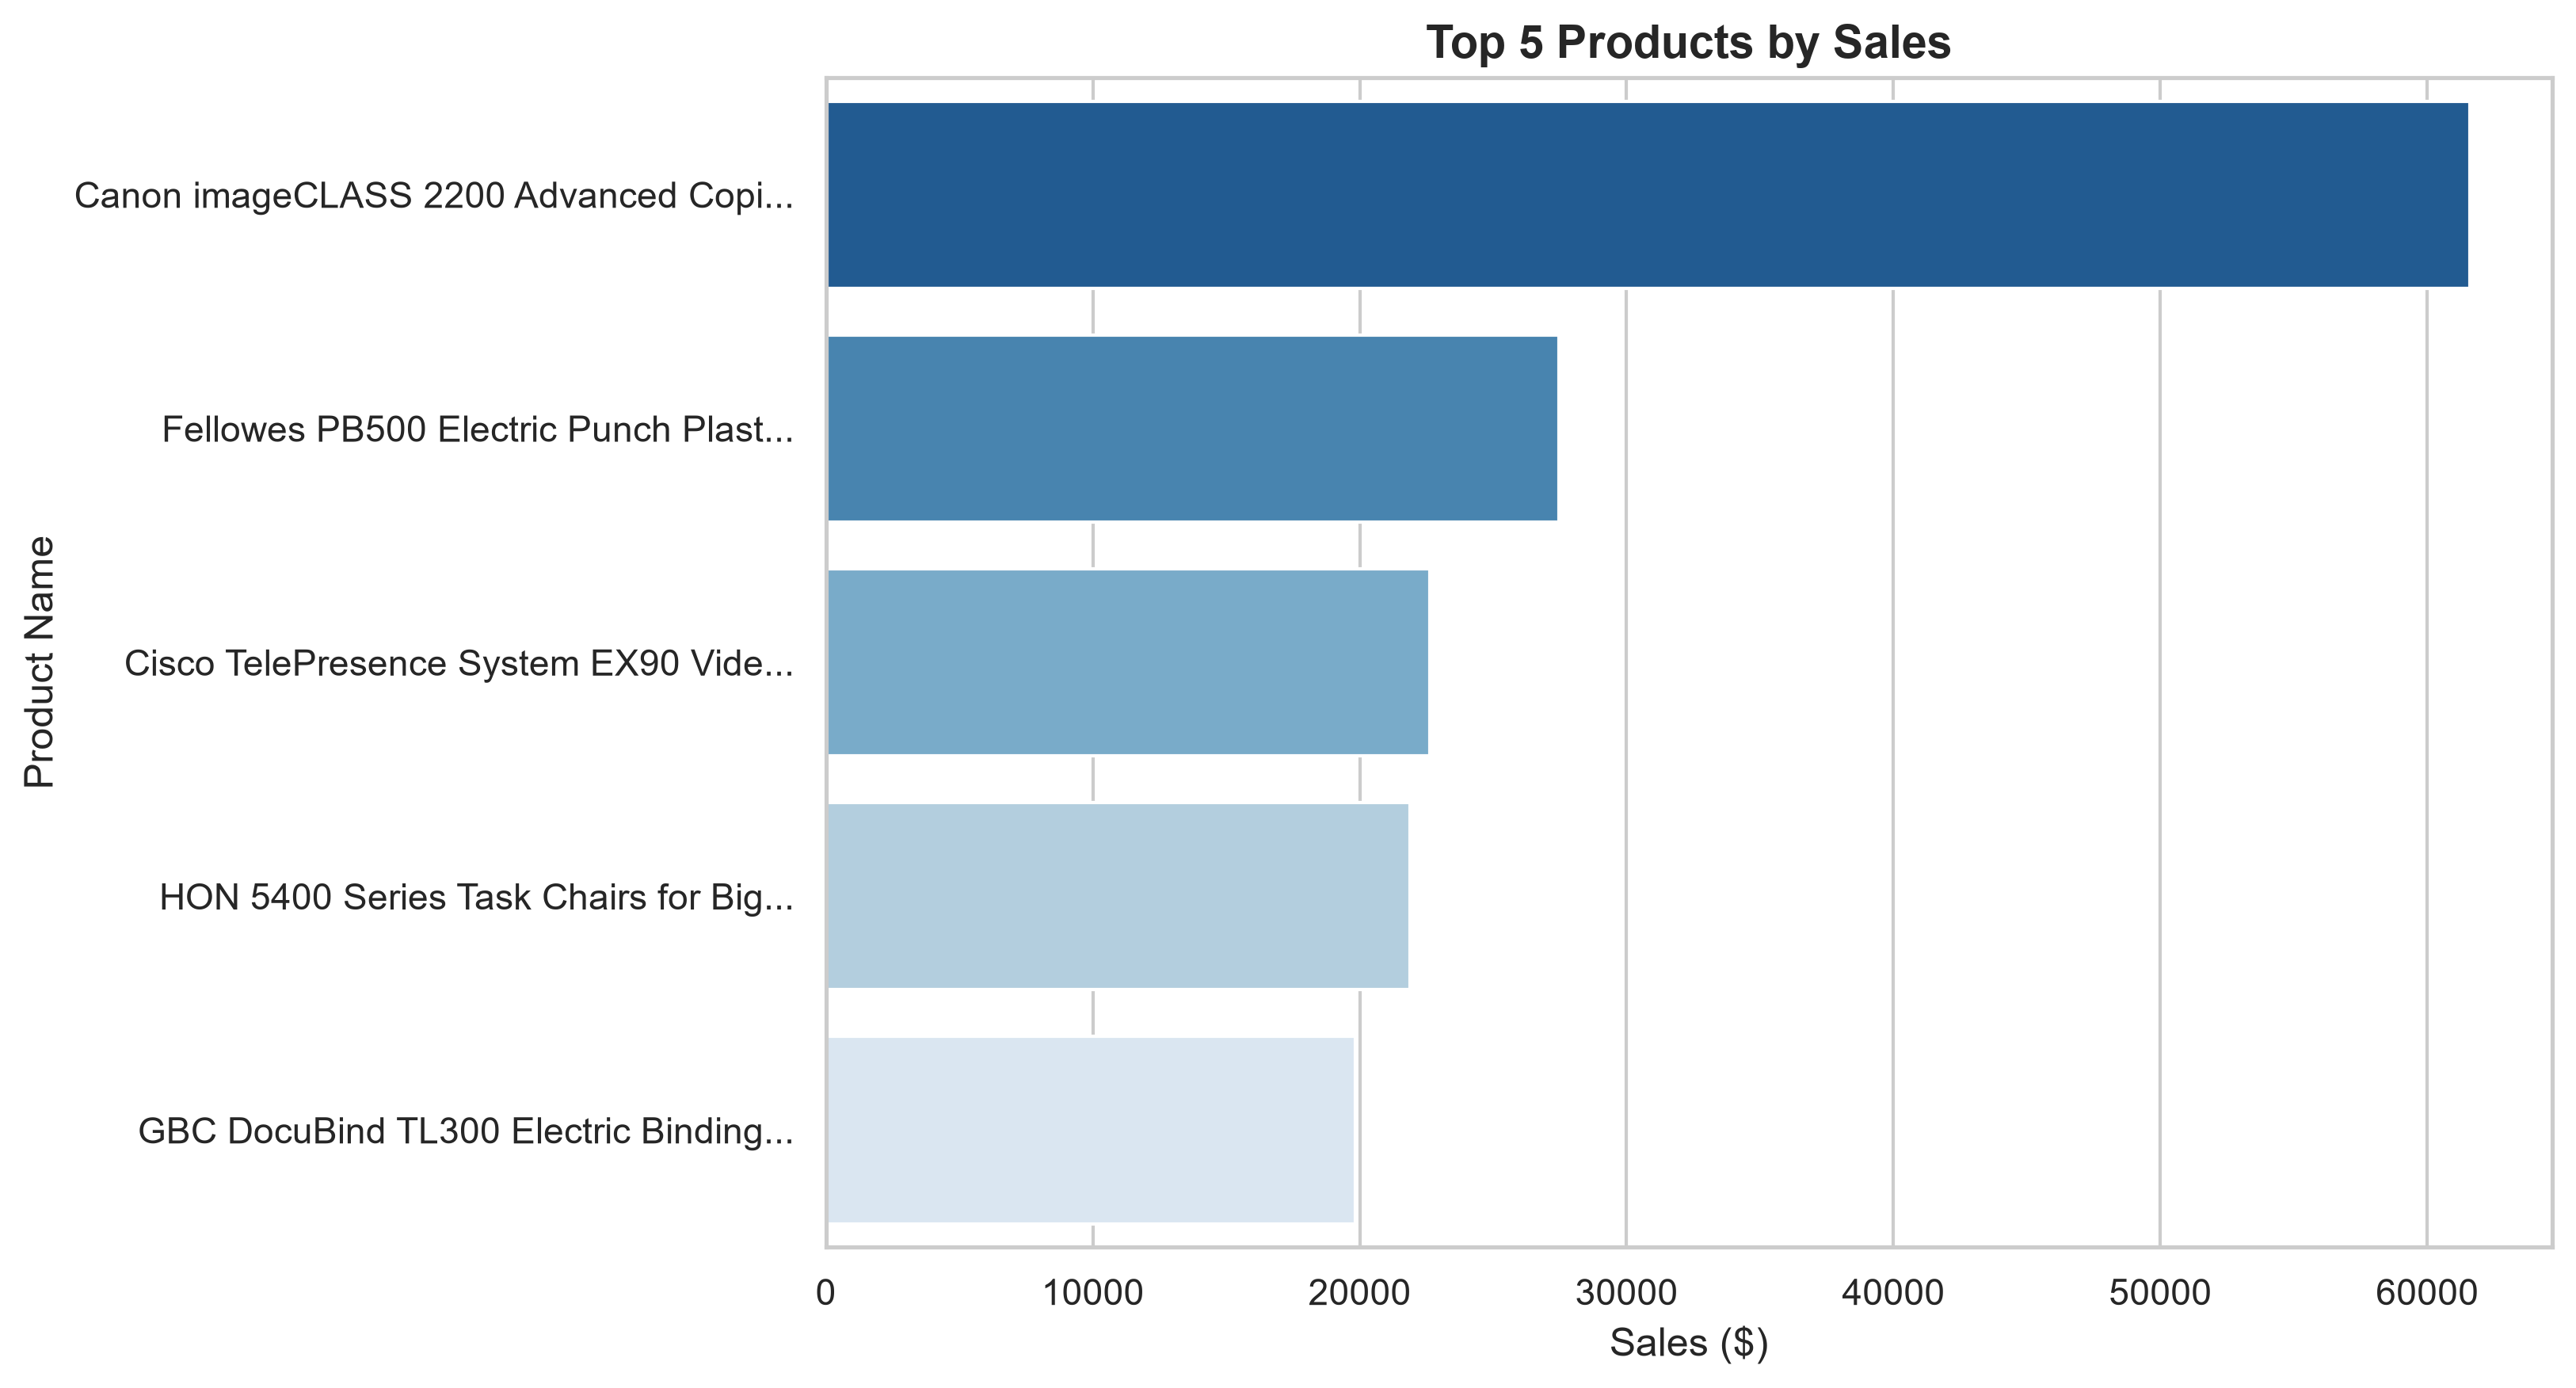

The dashboard page shown, as its layout file describes it:
{"tool":"powerbi","page":{"name":"Top 5 Products","canvas":[1280,720],"ordinal":1},"visuals":[{"type":"barChart","fields":{"Category":["Retails Order Full Dataset.Product Name"],"Y":["Retails Order Full Dataset.Total Sales"]},"box":[293.7,109.8,607.9,279.9],"z":0}]}

Visuals, with their boxes on the page's 1280x720 design canvas (x1, y1, x2, y2). These are canvas units, not pixel positions in the 2576x1388 screenshot, which may show the page scaled, cropped or inside an application window:
barChart - Retails Order Full Dataset.Product Name x Retails Order Full Dataset.Total Sales: (294,110,902,390)
